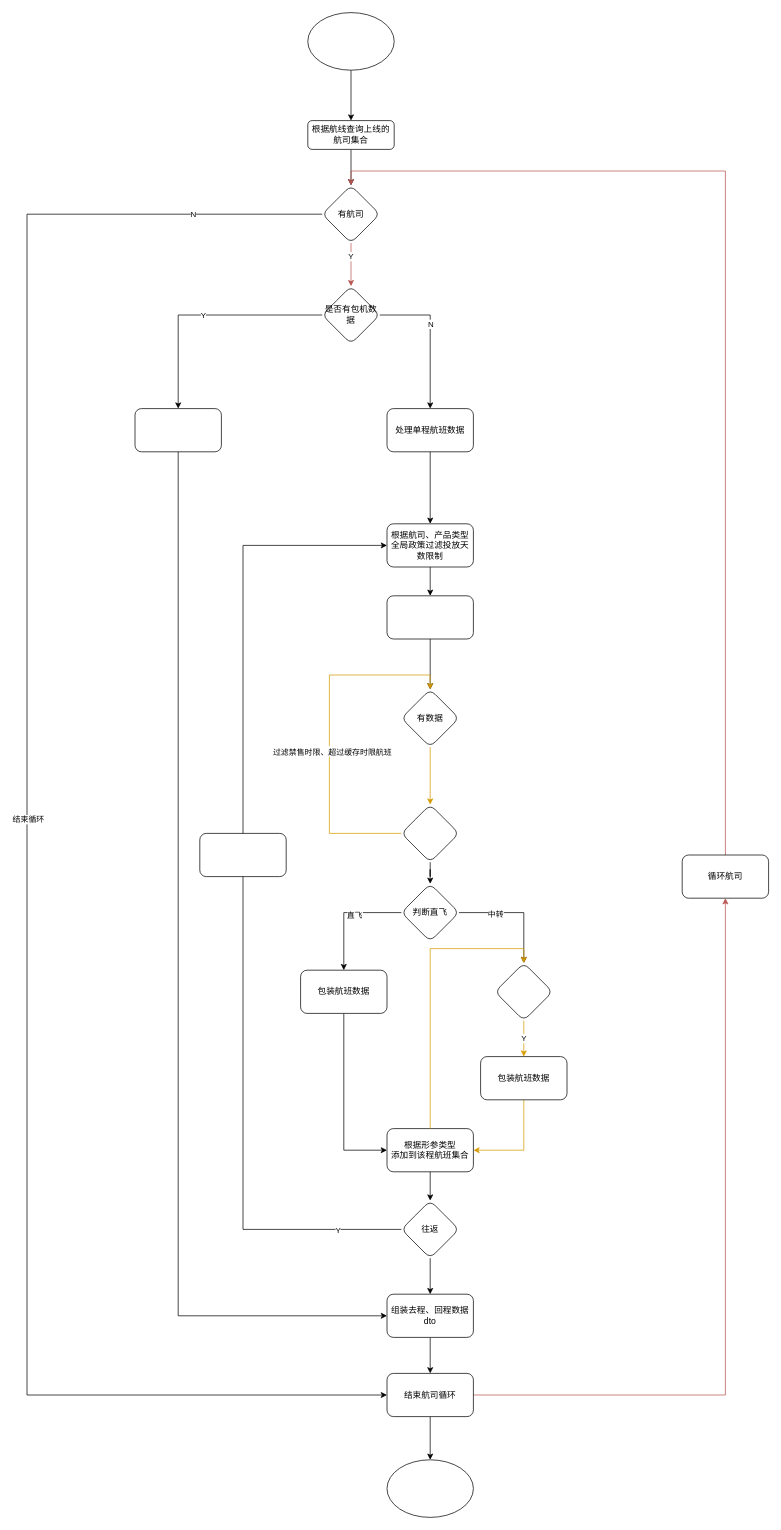
The diagram is 781 pixels wide and 1530 high, and some of its shapes have lost their labels. The centre of each missing label's shape, as x and y in pixels:
redis 获取原始数据: the point at 429,617
处理包机数据并添加到原始数据集合: the point at 177,430
有效数据: the point at 430,833
有航段: the point at 523,991
查询航班: the point at 350,41
流程复用: the point at 242,855
结束: the point at 429,1488
